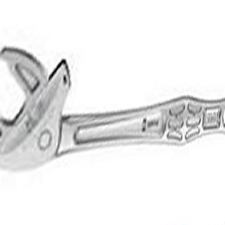Wrench: (1, 38, 225, 171)
